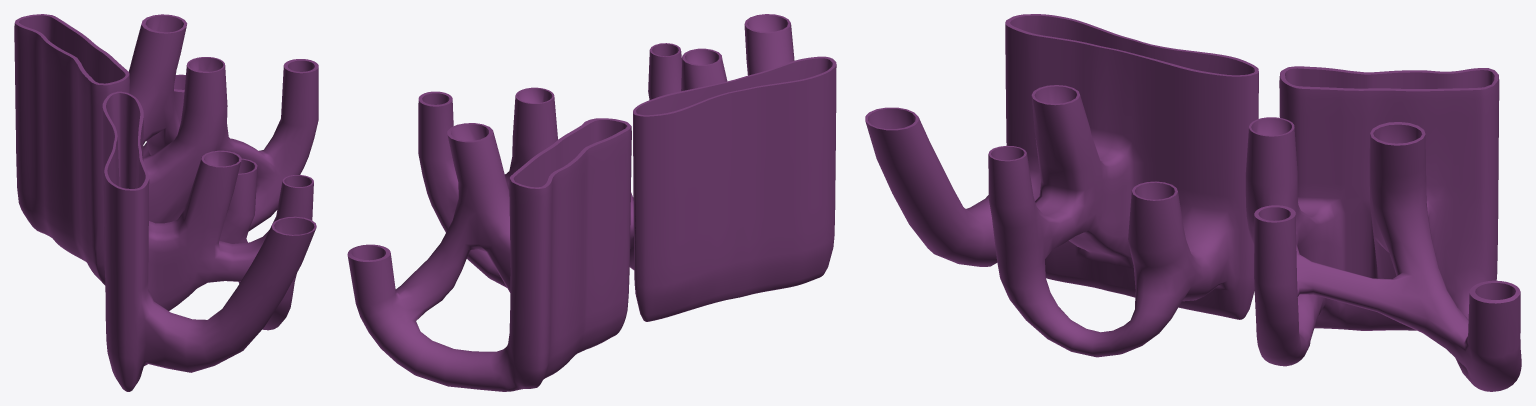
Rendered from Smooth_Endoplasmic_Reticulum.FBX.
3 views of the same model, side by side, from view 1: azimuth 30°, elevation 25°; view 2: azimuth 150°, elevation 25°; view 3: azimuth 270°, elevation 25° (orthographic). The views are drawn at different scales.
Parts seen in each view (by area): view 1: Smooth_Endoplasmic_Reticulum_Cell_Smooth_Endoplasmic_Reticul, Smooth_Endoplasmic_Reticulum2_Smooth_Endoplasmic_Reticulum_C; view 2: Smooth_Endoplasmic_Reticulum_Cell_Smooth_Endoplasmic_Reticul, Smooth_Endoplasmic_Reticulum2_Smooth_Endoplasmic_Reticulum_C; view 3: Smooth_Endoplasmic_Reticulum2_Smooth_Endoplasmic_Reticulum_C, Smooth_Endoplasmic_Reticulum_Cell_Smooth_Endoplasmic_Reticul.
Part boxes in pixels (left/top/right/bottom): Smooth_Endoplasmic_Reticulum_Cell_Smooth_Endoplasmic_Reticul: left=14, top=14, right=318, bottom=285; Smooth_Endoplasmic_Reticulum2_Smooth_Endoplasmic_Reticulum_C: left=102, top=91, right=316, bottom=391; Smooth_Endoplasmic_Reticulum_Cell_Smooth_Endoplasmic_Reticul: left=347, top=87, right=631, bottom=391; Smooth_Endoplasmic_Reticulum2_Smooth_Endoplasmic_Reticulum_C: left=582, top=14, right=836, bottom=321; Smooth_Endoplasmic_Reticulum2_Smooth_Endoplasmic_Reticulum_C: left=865, top=14, right=1258, bottom=357; Smooth_Endoplasmic_Reticulum_Cell_Smooth_Endoplasmic_Reticul: left=1245, top=66, right=1521, bottom=391.
Size of the model in its own units: 34.79 by 23.67 by 54.27.
